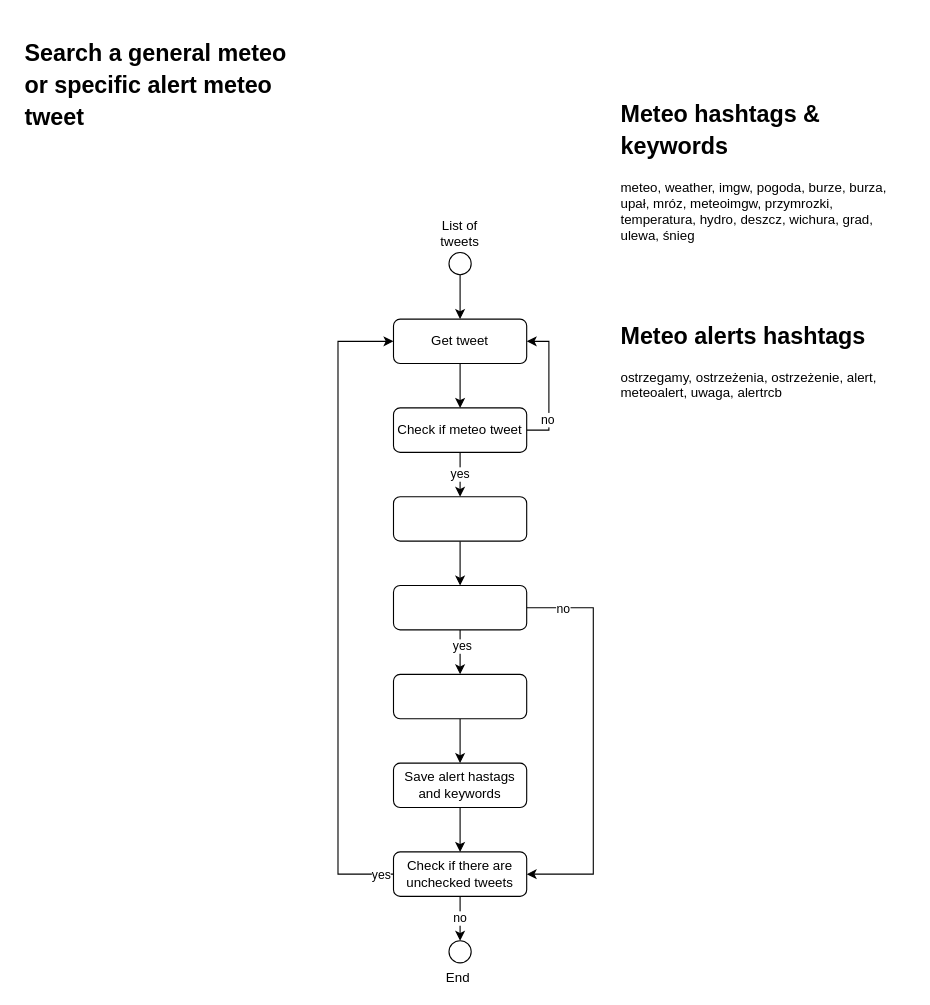
This 930x1005 diagram has some shape labels left out. The shapes that lost their labels are listed below. From the top down, each one's centre as x and y in pixels, then its label:
(459,518): Flag as a meteo tweet
(459,607): Check if meteo alert tweet
(459,696): Flag as a meteo alert tweet
